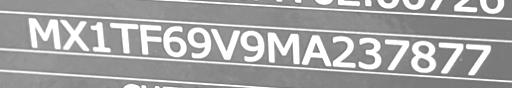letter: (26, 16, 62, 50), (266, 29, 300, 65), (59, 16, 91, 52), (108, 20, 140, 56), (300, 32, 332, 66), (382, 35, 410, 72), (210, 25, 240, 59), (462, 42, 492, 75), (410, 38, 438, 73), (330, 31, 356, 68), (160, 23, 188, 57), (184, 24, 212, 58), (238, 28, 266, 62), (438, 40, 464, 75), (138, 21, 164, 55), (357, 36, 383, 69), (89, 19, 111, 51)
